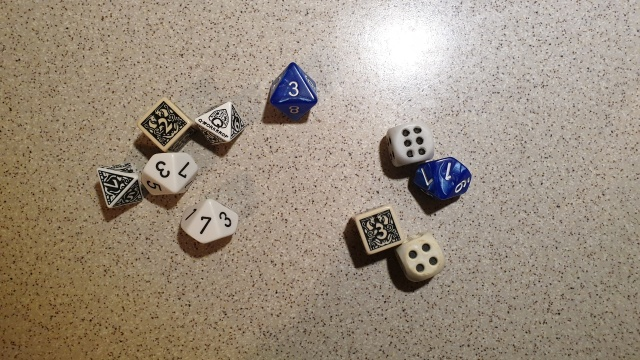d10-1: (411, 154, 475, 208)
d10-3: (267, 58, 321, 126), (138, 149, 202, 204)
d10-7: (173, 196, 243, 247)
d6-4: (395, 232, 445, 285)
d6-6: (383, 119, 436, 166)
d6p-2: (136, 97, 194, 155)
d6p-3: (349, 204, 403, 258)
d8p-7: (88, 160, 143, 214)
d8p-8: (193, 93, 244, 151)
